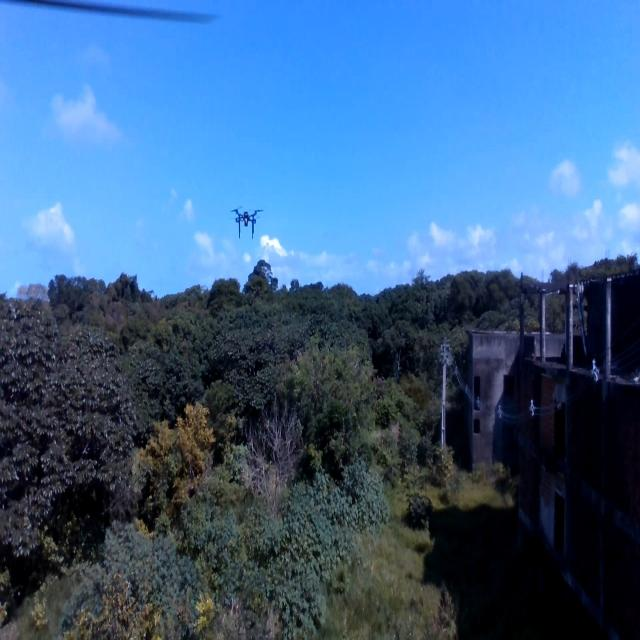-uav-: (227, 197, 265, 245)
